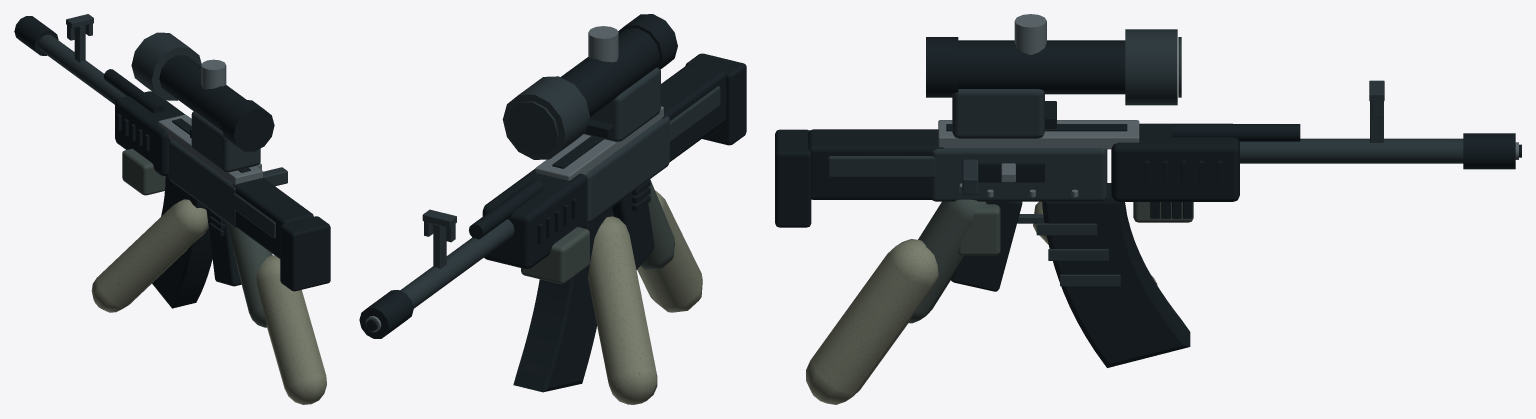
The model's file is weapon-sniper.glb.
3 views of the same model, side by side, from view 1: azimuth 30°, elevation 25°; view 2: azimuth 150°, elevation 25°; view 3: azimuth 270°, elevation 25° (orthographic). The views are drawn at different scales.
Size of the model in its own units: 0.4807 by 1.02 by 1.86.
Materials: 6 (1 with a texture image).
